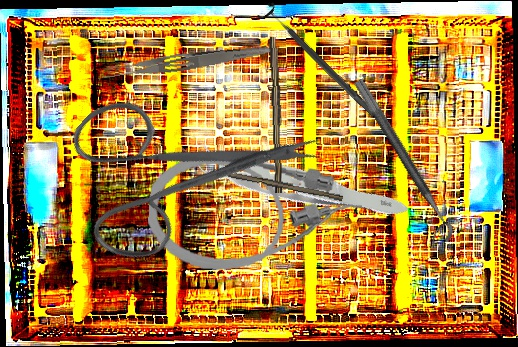Cannula: (144, 147, 366, 284)
Dressing Forceps: (100, 37, 272, 84)
Fixation Ring: (340, 77, 458, 250), (255, 0, 382, 123)
Iris Scissors: (28, 12, 329, 315)
Scalpel Handle: (227, 169, 344, 202), (266, 36, 288, 194)
Tissue Forceps: (176, 60, 410, 294)
